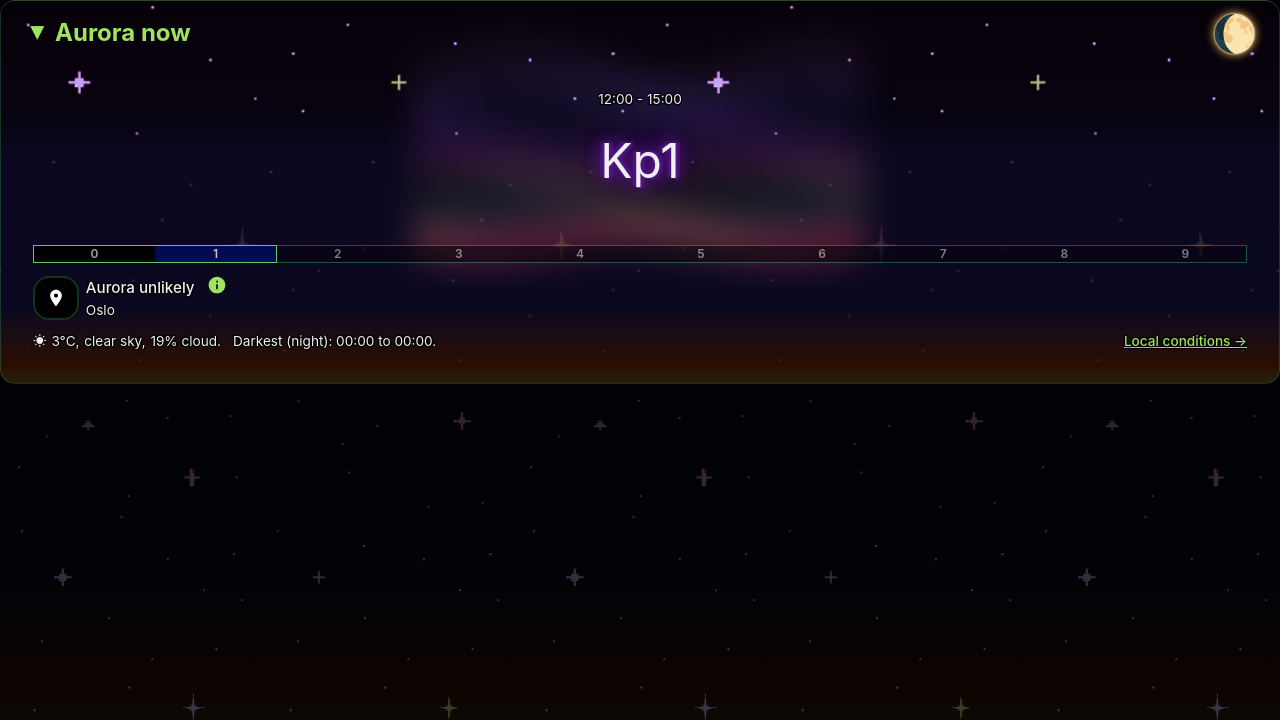
Test case: AuroraNow › opens the shared Change location modal from the Change location button
Expected: the picture with class "kp-bar" is shown, top-left (32, 244), bottom-right (285, 259)
Click the button named "Change location": (56, 298) top-left (33, 276), bottom-right (79, 320)
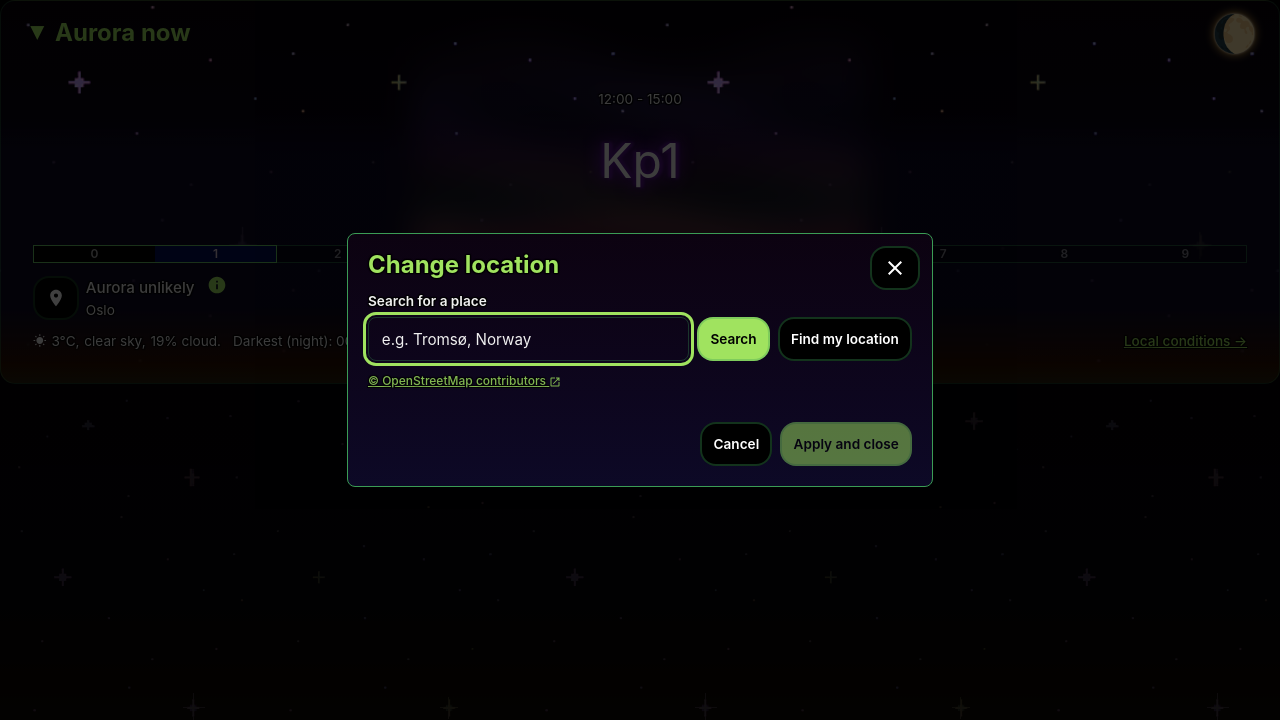
Expected: the heading "Change location" is shown, top-left (368, 250), bottom-right (559, 279)
